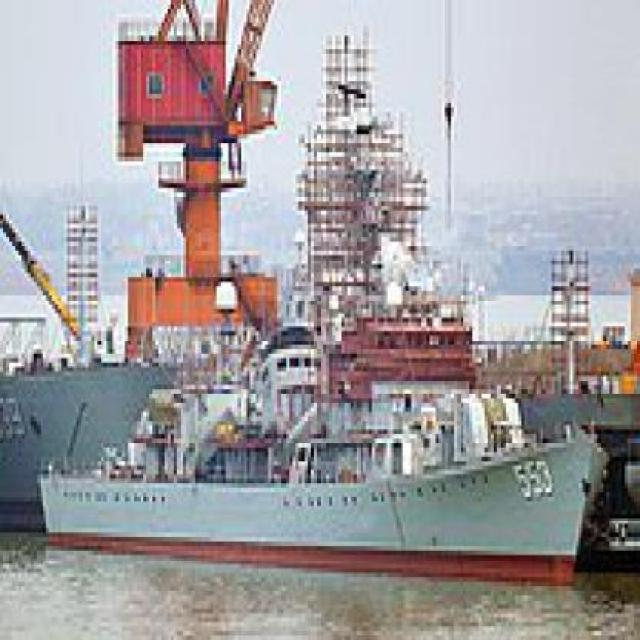warship2: (25, 319, 592, 583)
